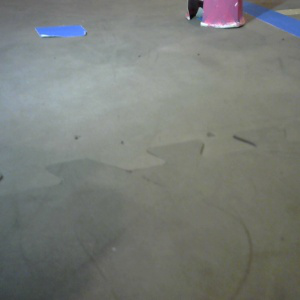right: (185, 1, 246, 31)
